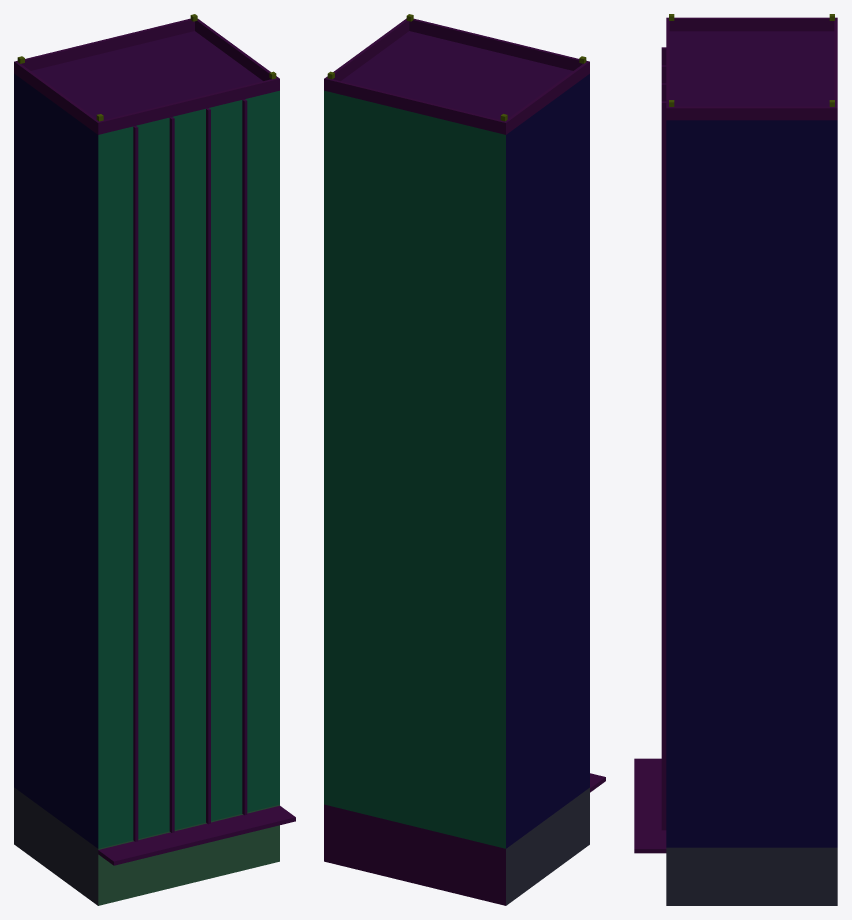
File: slab_b.lod2.glb
The picture shows the model from 3 angles, left to right: view 1: azimuth 30°, elevation 25°; view 2: azimuth 150°, elevation 25°; view 3: azimuth 270°, elevation 25°; orthographic projection.
Visible parts, largest first — view 1: slab_b.lod2; view 2: slab_b.lod2; view 3: slab_b.lod2.
Part boxes in pixels (left/top/right/bottom): slab_b.lod2: left=14, top=14, right=295, bottom=905; slab_b.lod2: left=324, top=14, right=605, bottom=905; slab_b.lod2: left=634, top=14, right=837, bottom=905.
Size of the model in its own units: 16 by 66.2 by 15.2.
